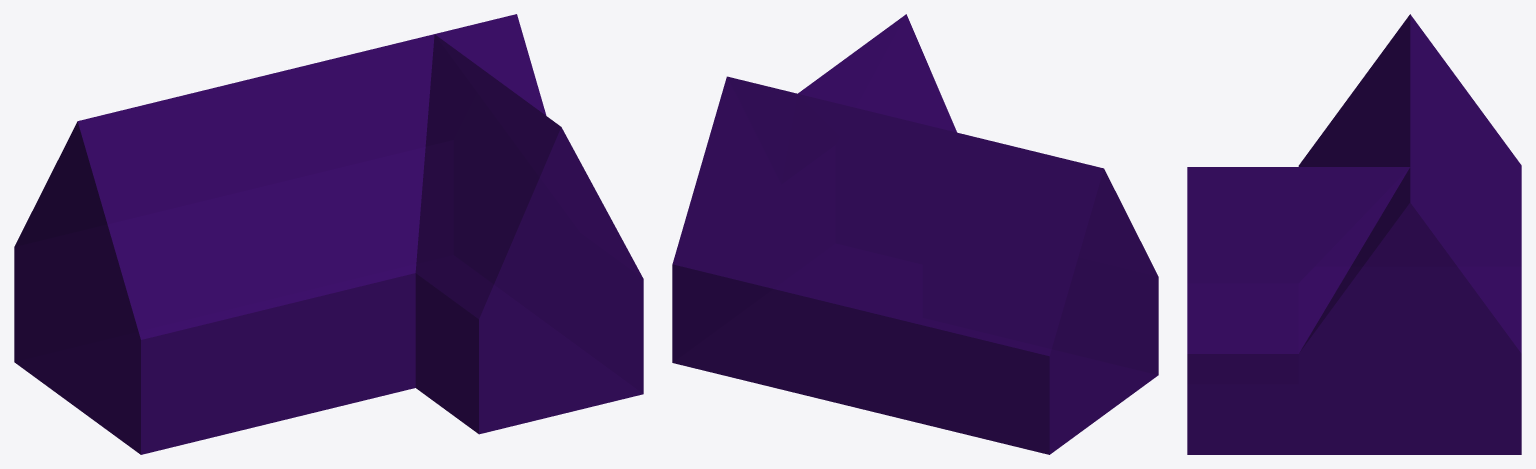
3 views of the same model, side by side, from view 1: azimuth 30°, elevation 25°; view 2: azimuth 150°, elevation 25°; view 3: azimuth 270°, elevation 25° (orthographic). The views are drawn at different scales.
Parts seen in each view (by area): view 1: SketchUp; view 2: SketchUp; view 3: SketchUp.
Boxes of the visible parts, x1,y1,x2,y2 form: SketchUp: [14, 14, 643, 454]; SketchUp: [672, 14, 1158, 454]; SketchUp: [1187, 14, 1521, 454].
Bounding box in the file's own units: 315 × 236 × 197.
